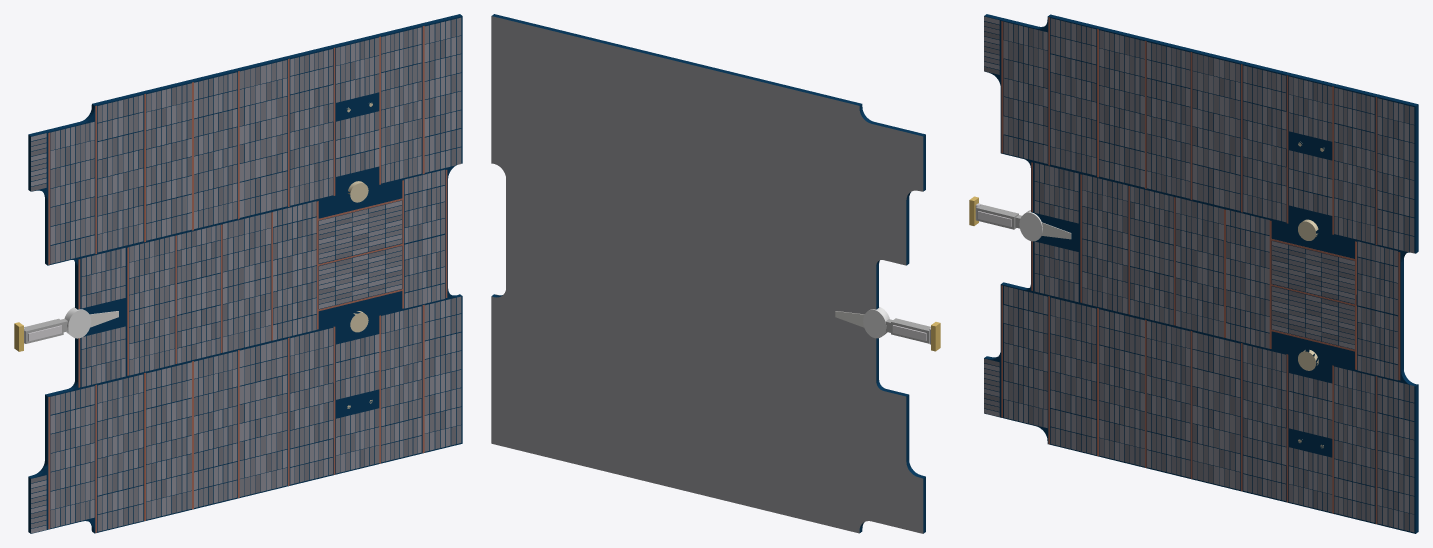
3 views of the same model, side by side, from view 1: azimuth 30°, elevation 25°; view 2: azimuth 150°, elevation 25°; view 3: azimuth 330°, elevation 25° (orthographic).
Parts seen in each view (by area): view 1: Layer_0.002; view 2: Layer_0.002; view 3: Layer_0.002.
Part boxes in pixels (x1,y1,x2,y2): Layer_0.002: (14, 14, 462, 533); Layer_0.002: (491, 14, 940, 533); Layer_0.002: (969, 14, 1418, 533).
Size of the model in its own units: 298 by 274 by 8.04.
